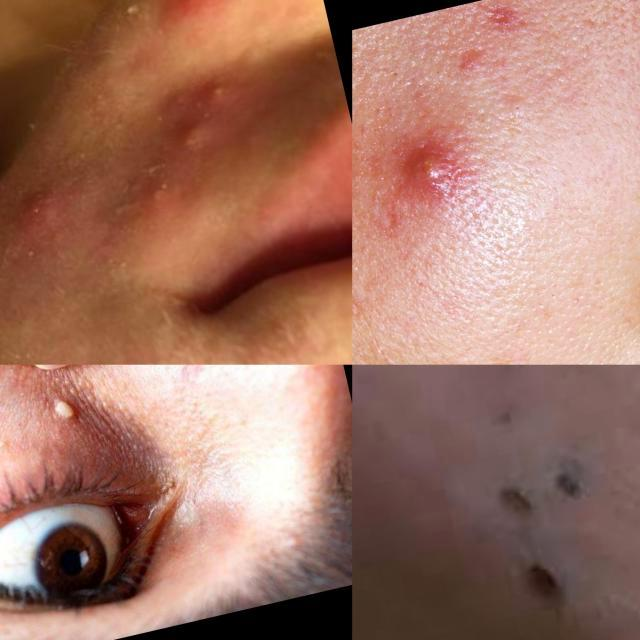Pimples: (478, 441, 617, 537), (494, 542, 590, 626), (390, 126, 468, 204), (102, 164, 176, 240), (0, 184, 71, 254), (358, 185, 418, 258), (147, 0, 237, 48), (166, 110, 234, 163), (37, 376, 90, 434), (186, 54, 238, 108), (475, 0, 531, 50), (0, 431, 17, 462), (0, 365, 13, 392)
